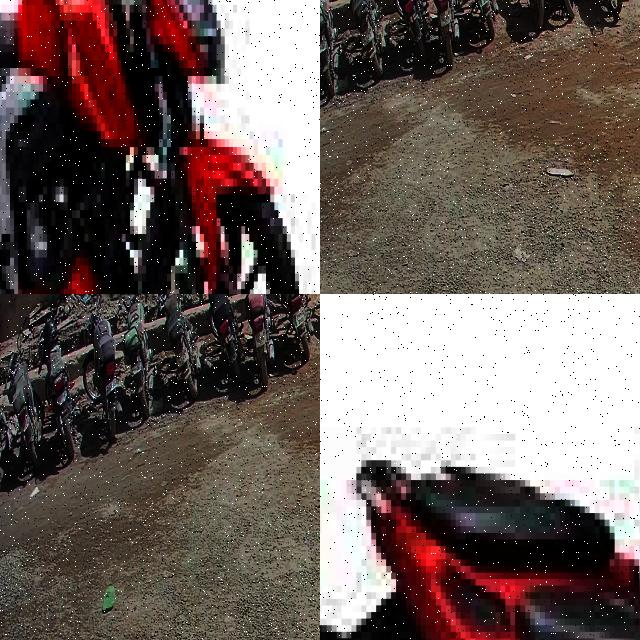bike: (320, 302, 640, 640), (0, 0, 307, 294), (38, 298, 81, 457), (5, 316, 44, 470), (82, 294, 122, 437), (115, 294, 154, 417), (156, 294, 201, 398), (203, 294, 245, 384), (340, 0, 386, 77), (268, 294, 314, 358), (242, 294, 274, 386), (388, 0, 429, 62), (427, 0, 460, 65), (320, 0, 339, 95), (453, 0, 498, 39)
